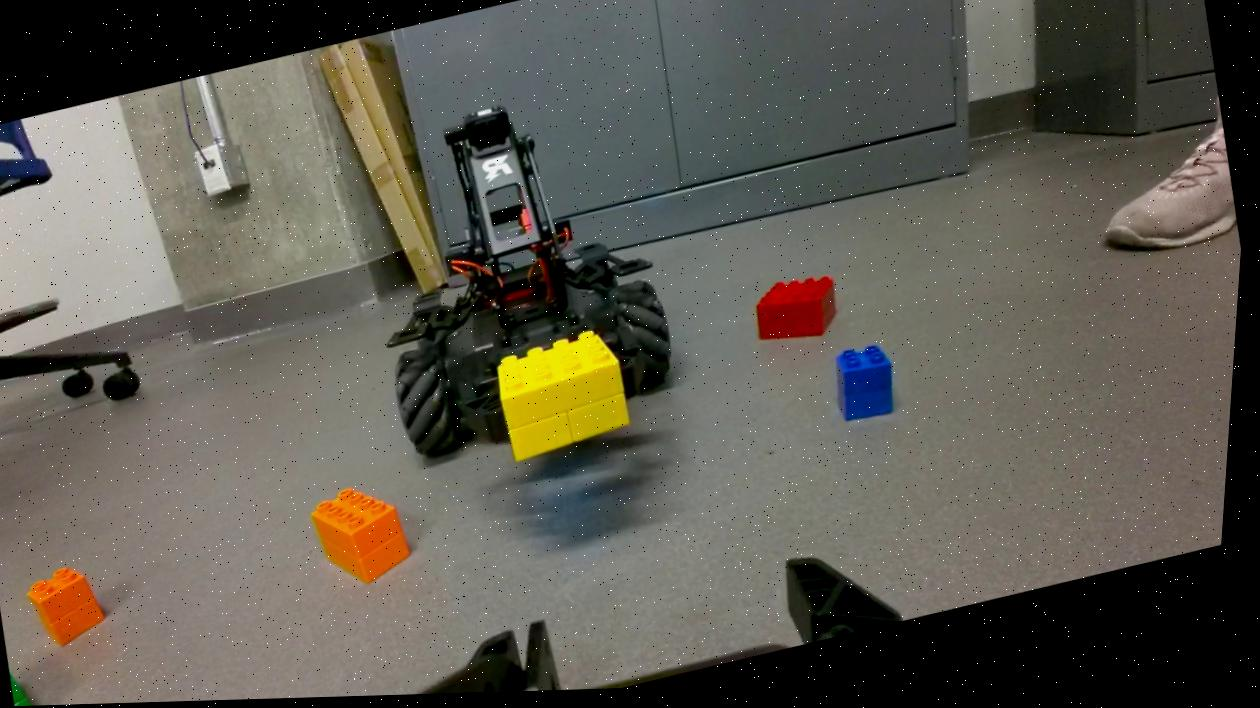2x2lego: (27, 558, 123, 658), (828, 341, 912, 435)
2x4lego: (309, 475, 426, 600)
4x4lego: (752, 272, 853, 359)
